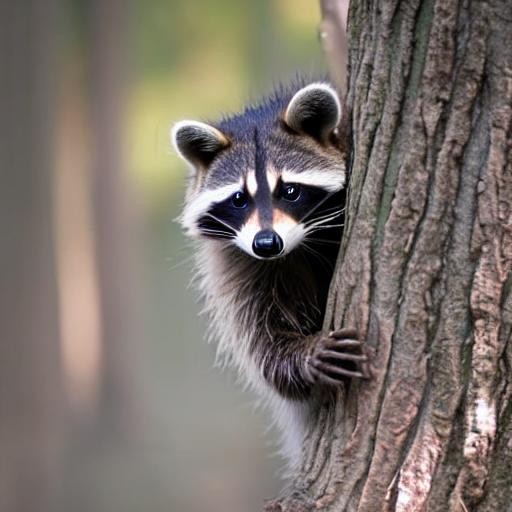raccoon: (165, 69, 344, 447)
